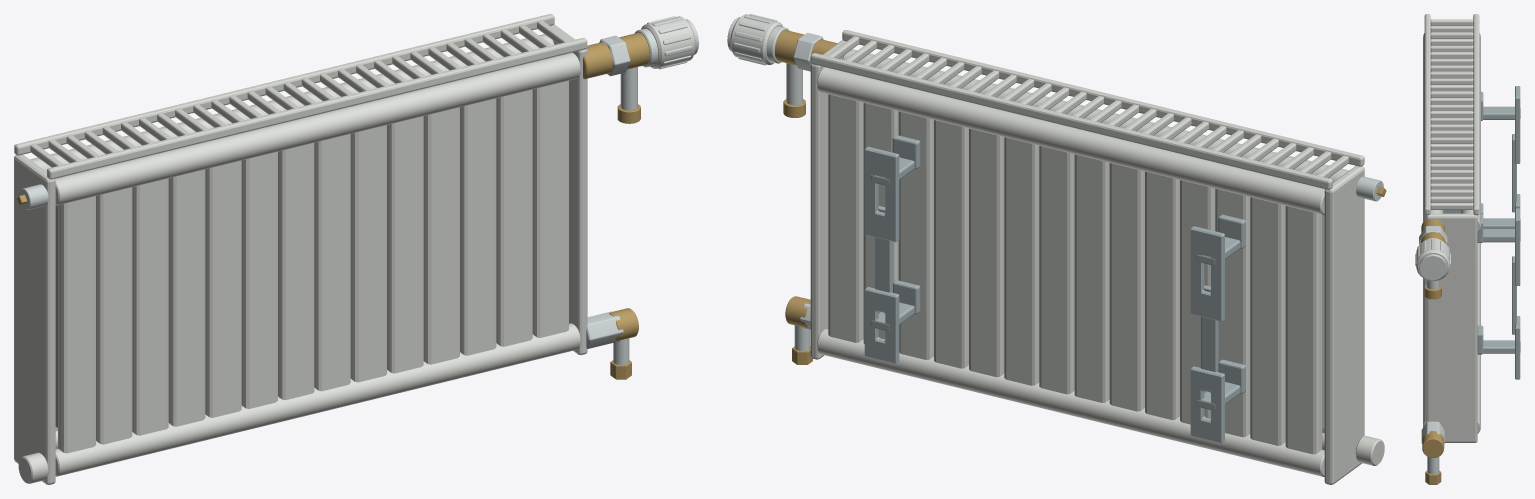
The model's file is city-panel-radiator.glb.
3 renders of one model, left to right at view 1: azimuth 30°, elevation 25°; view 2: azimuth 150°, elevation 25°; view 3: azimuth 270°, elevation 25°, orthographic. The views are drawn at different scales.
Parts seen in each view (by area): view 1: Assembly | Warm ivory appliance enamel, Assembly | Satin pipe and shaft metal, Assembly | Unbranded warm metal valve fittings, Assembly | Pale molded trim; view 2: Assembly | Warm ivory appliance enamel, Assembly | Satin galvanized mounting metal, Assembly | Satin pipe and shaft metal, Assembly | Unbranded warm metal valve fittings, Assembly | Pale molded trim; view 3: Assembly | Warm ivory appliance enamel, Assembly | Satin galvanized mounting metal, Assembly | Unbranded warm metal valve fittings, Assembly | Pale molded trim, Assembly | Satin pipe and shaft metal.
Part boxes in pixels (x1,y1,x2,y2): Assembly | Warm ivory appliance enamel: (14,14,695,484); Assembly | Satin pipe and shaft metal: (19,35,637,364); Assembly | Unbranded warm metal valve fittings: (17,32,649,379); Assembly | Pale molded trim: (634,16,698,69); Assembly | Warm ivory appliance enamel: (730,14,1384,484); Assembly | Satin galvanized mounting metal: (864,135,1324,443); Assembly | Satin pipe and shaft metal: (786,32,1383,351); Assembly | Unbranded warm metal valve fittings: (774,30,1386,364); Assembly | Pale molded trim: (727,14,789,65); Assembly | Warm ivory appliance enamel: (1416,14,1480,442); Assembly | Satin galvanized mounting metal: (1443,86,1520,379); Assembly | Unbranded warm metal valve fittings: (1421,219,1445,484); Assembly | Pale molded trim: (1415,238,1450,280); Assembly | Satin pipe and shaft metal: (1419,226,1447,474).
Bounding box in the file's own units: 1.25 × 0.6245 × 0.2295.
